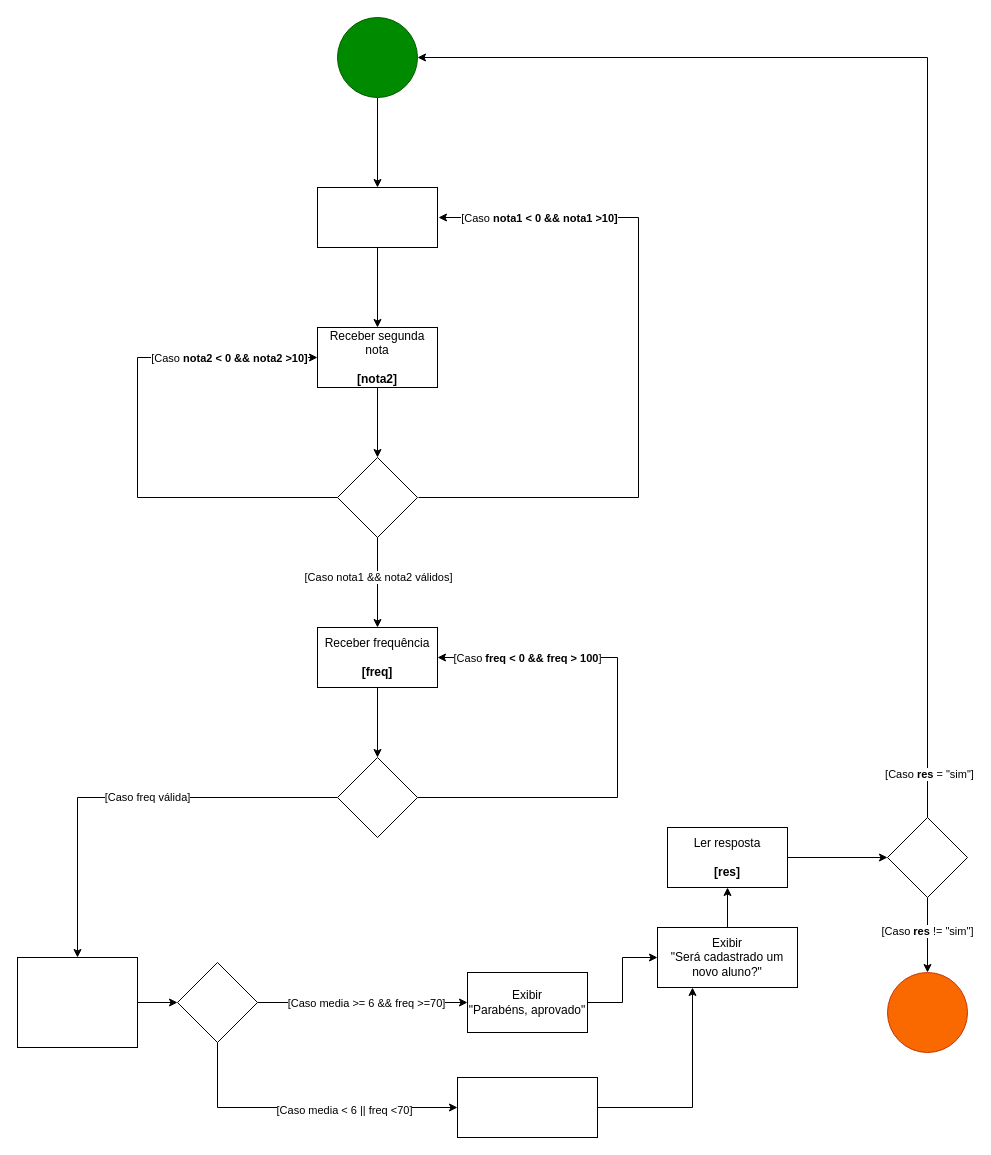
Some shapes in this 991 by 1155 pixel diagram are drawn without their labels. The shapes that lost their labels are listed below. From the top down, each one's box as (x1, y1, x2, y2) in pixels, then its label:
(316, 186, 438, 248): Receber primeira nota [nota1]
(16, 956, 138, 1048): Calcular média (nota1 + nota2)/2 [media]
(456, 1076, 598, 1138): Exibir "Infelizmente, reprovado"
